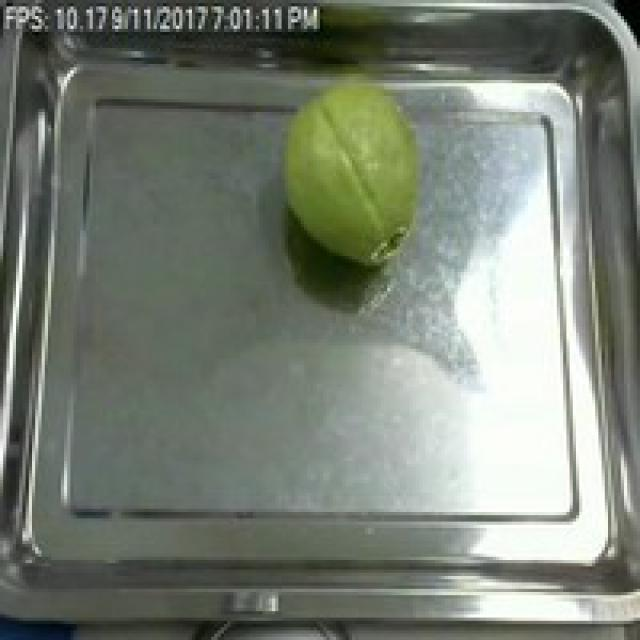Fruit: (266, 74, 438, 272)
